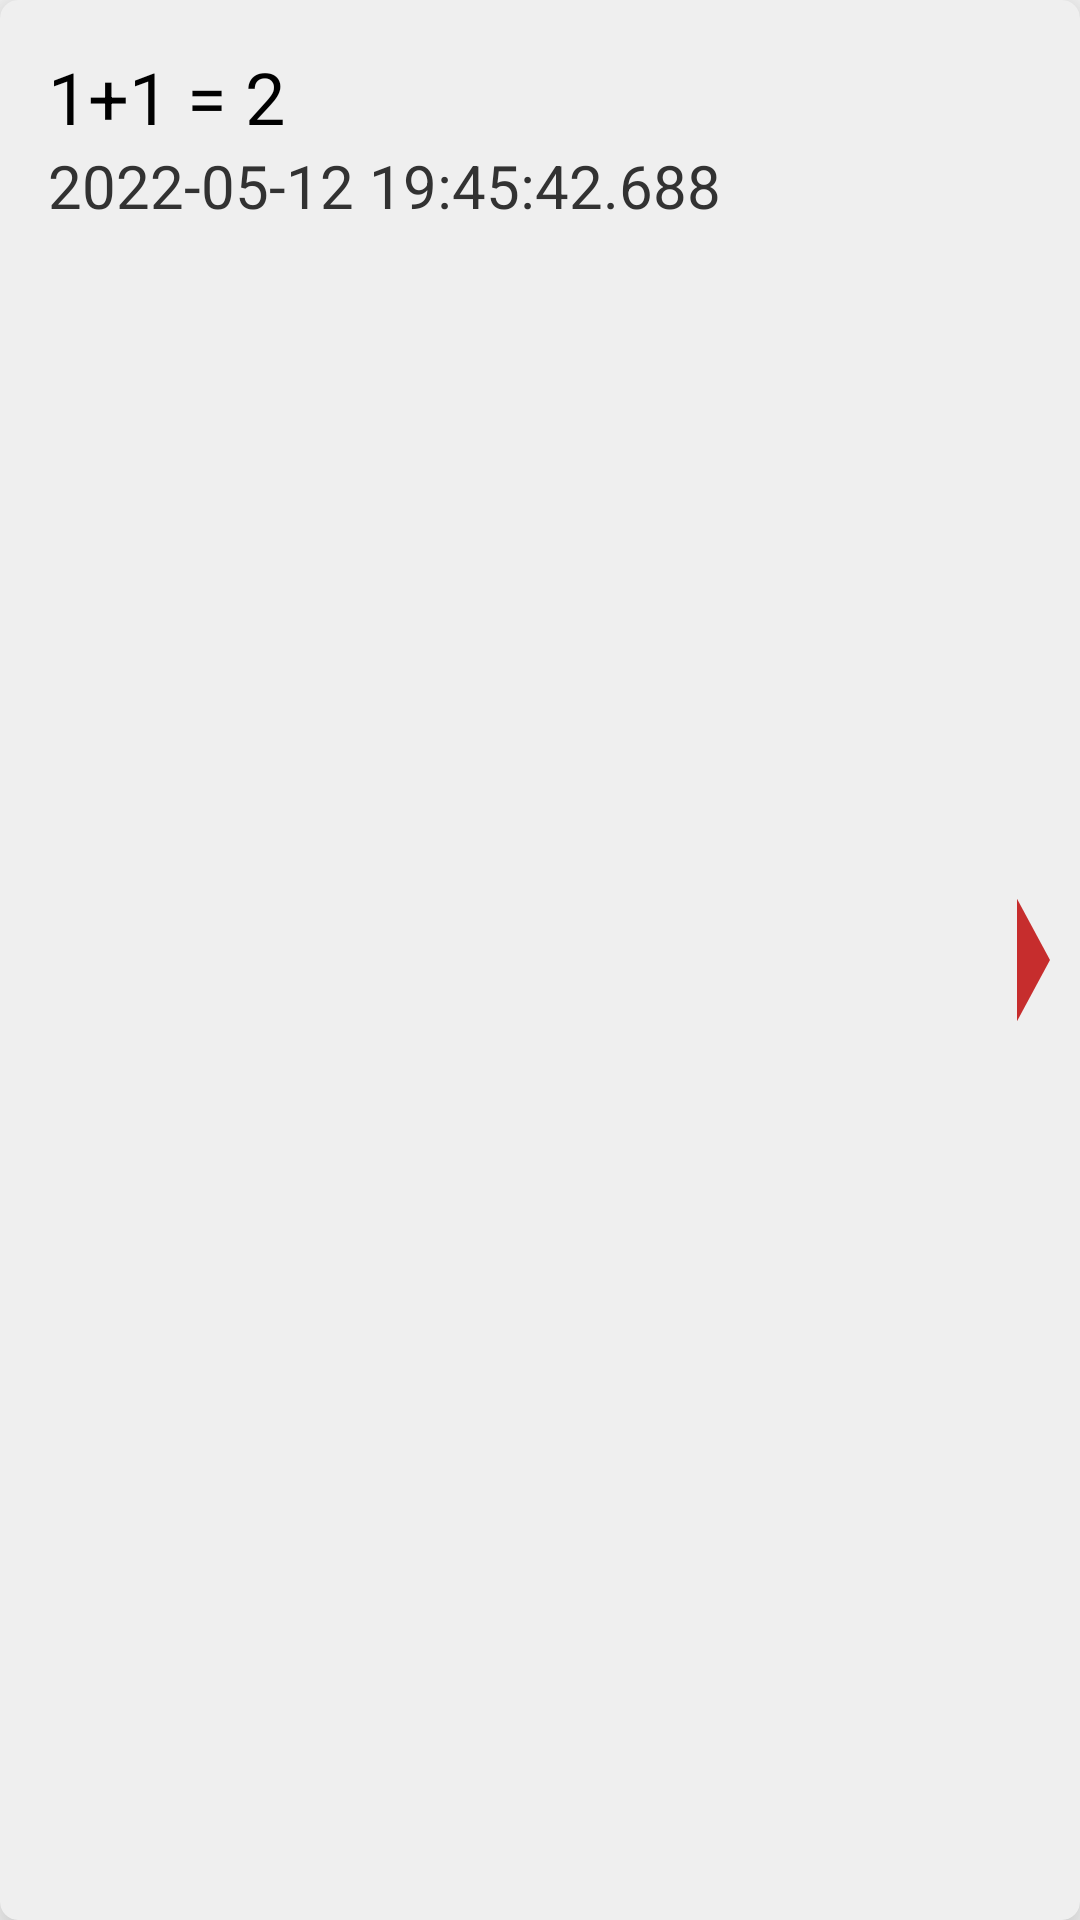

Icons on this 1080 x 1920 Android screen, each with its box as (x1, y1, x2, y2):
arrow right: (1017, 899, 1050, 1021)
